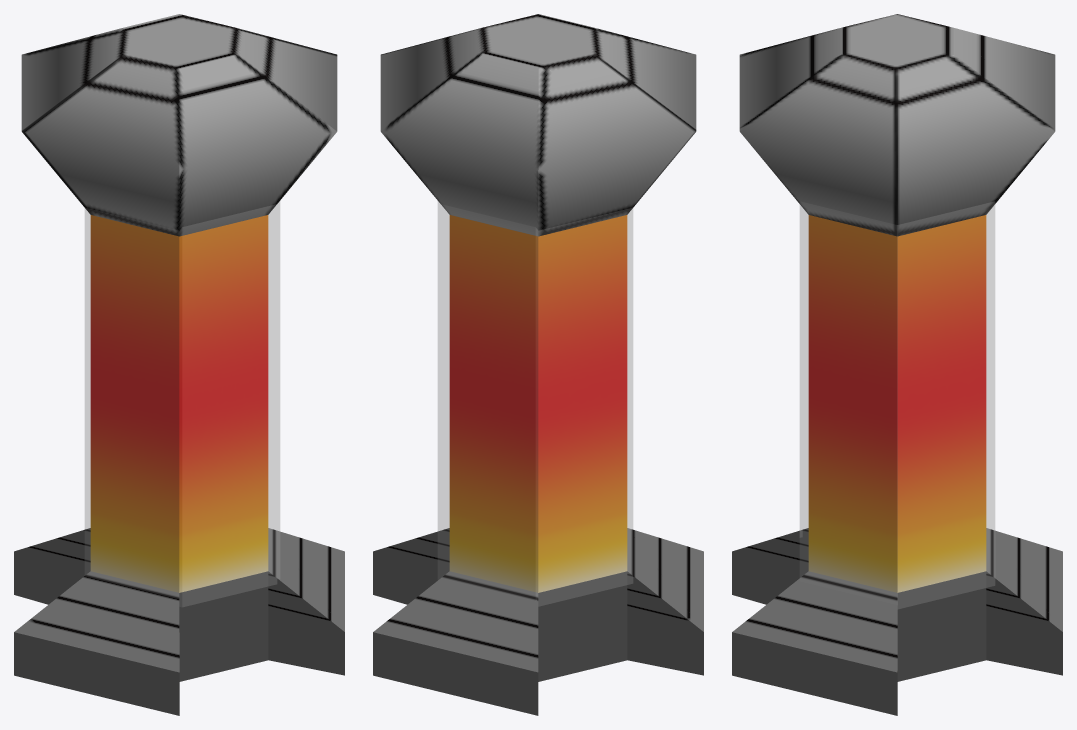
File: Monstermachine.fbx
3 views of the same model, side by side, from view 1: azimuth 30°, elevation 25°; view 2: azimuth 150°, elevation 25°; view 3: azimuth 270°, elevation 25° (orthographic).
Parts seen in each view (by area): view 1: pCylinder3, pCylinder1, pCylinder2; view 2: pCylinder3, pCylinder1, pCylinder2; view 3: pCylinder3, pCylinder1, pCylinder2.
Part boxes in pixels (<box>): pCylinder3: <box>14,215,344,715</box>; pCylinder1: <box>85,201,279,606</box>; pCylinder2: <box>21,14,337,236</box>; pCylinder3: <box>373,215,703,715</box>; pCylinder1: <box>438,201,632,605</box>; pCylinder2: <box>380,14,696,236</box>; pCylinder3: <box>732,215,1062,715</box>; pCylinder1: <box>800,202,994,608</box>; pCylinder2: <box>739,14,1055,236</box>.
Bounding box in the file's own units: 93.07 × 161 × 80.6.
Materials: 2 (1 with a texture image).
